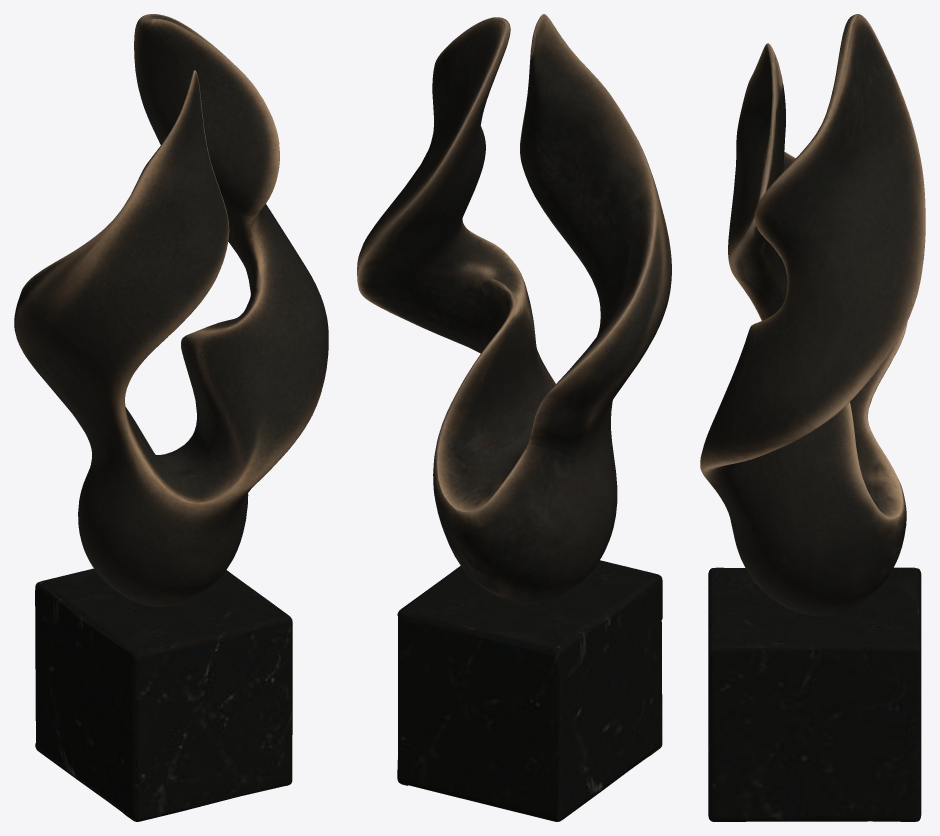
The model's file is suite-sculpture.glb.
3 renders of one model, left to right at view 1: azimuth 30°, elevation 25°; view 2: azimuth 150°, elevation 25°; view 3: azimuth 270°, elevation 25°, orthographic. The views are drawn at different scales.
Visible parts, largest first — view 1: output_unwrapped; view 2: output_unwrapped; view 3: output_unwrapped.
Part boxes in pixels (<box>): output_unwrapped: <box>14,14,328,821</box>; output_unwrapped: <box>357,14,671,821</box>; output_unwrapped: <box>700,14,925,821</box>.
Bounding box in the file's own units: 0.7717 × 1.9 × 0.5043.
Materials: 1 (1 with a texture image).
